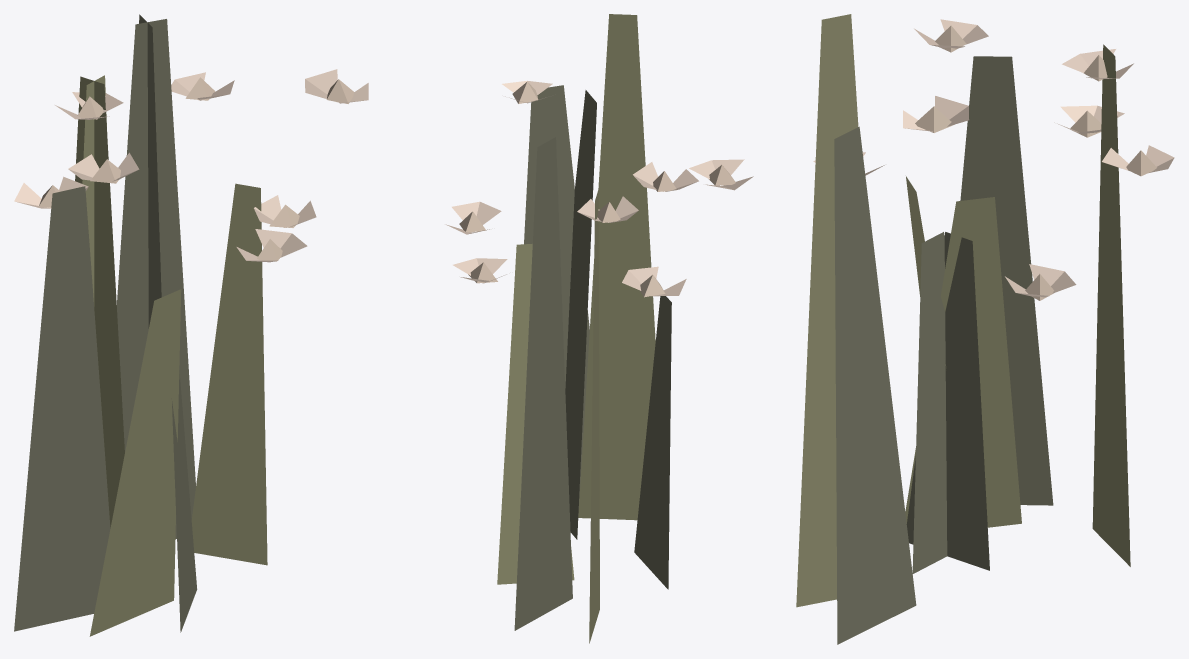
The model's file is nong.dao@flowering__winter.glb.
3 views of the same model, side by side, from view 1: azimuth 30°, elevation 25°; view 2: azimuth 150°, elevation 25°; view 3: azimuth 270°, elevation 25° (orthographic). The views are drawn at different scales.
Parts seen in each view (by area): view 1: nong.dao@flowering__winter; view 2: nong.dao@flowering__winter; view 3: nong.dao@flowering__winter.
Boxes of the visible parts, box(x1,y1,x2,y2) form: nong.dao@flowering__winter: box(14, 14, 368, 636); nong.dao@flowering__winter: box(445, 14, 753, 643); nong.dao@flowering__winter: box(796, 14, 1174, 644).
Bounding box in the file's own units: 0.628 × 1.02 × 0.6056.
